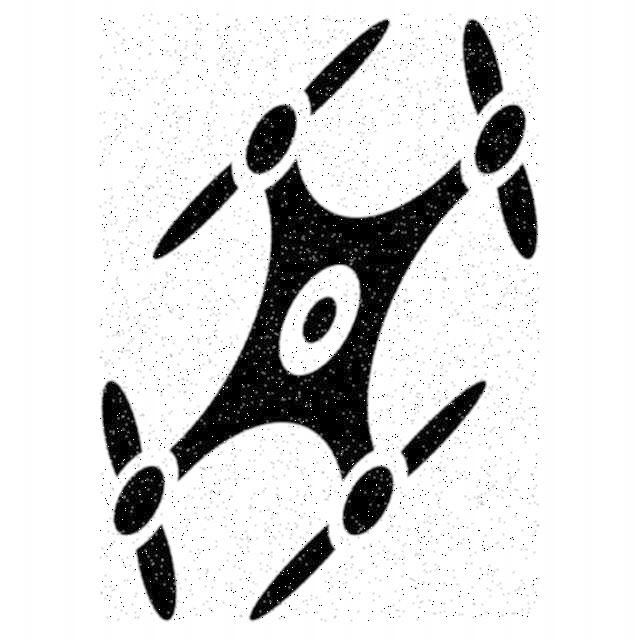drone: (101, 15, 540, 622)
